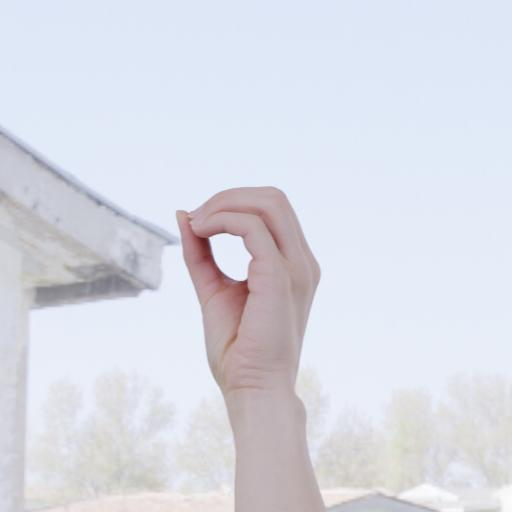O: (160, 165, 330, 398)
